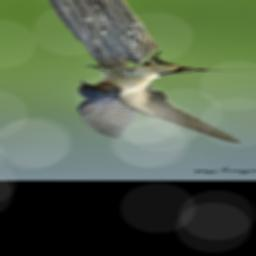Swallow: (76, 52, 256, 146)
